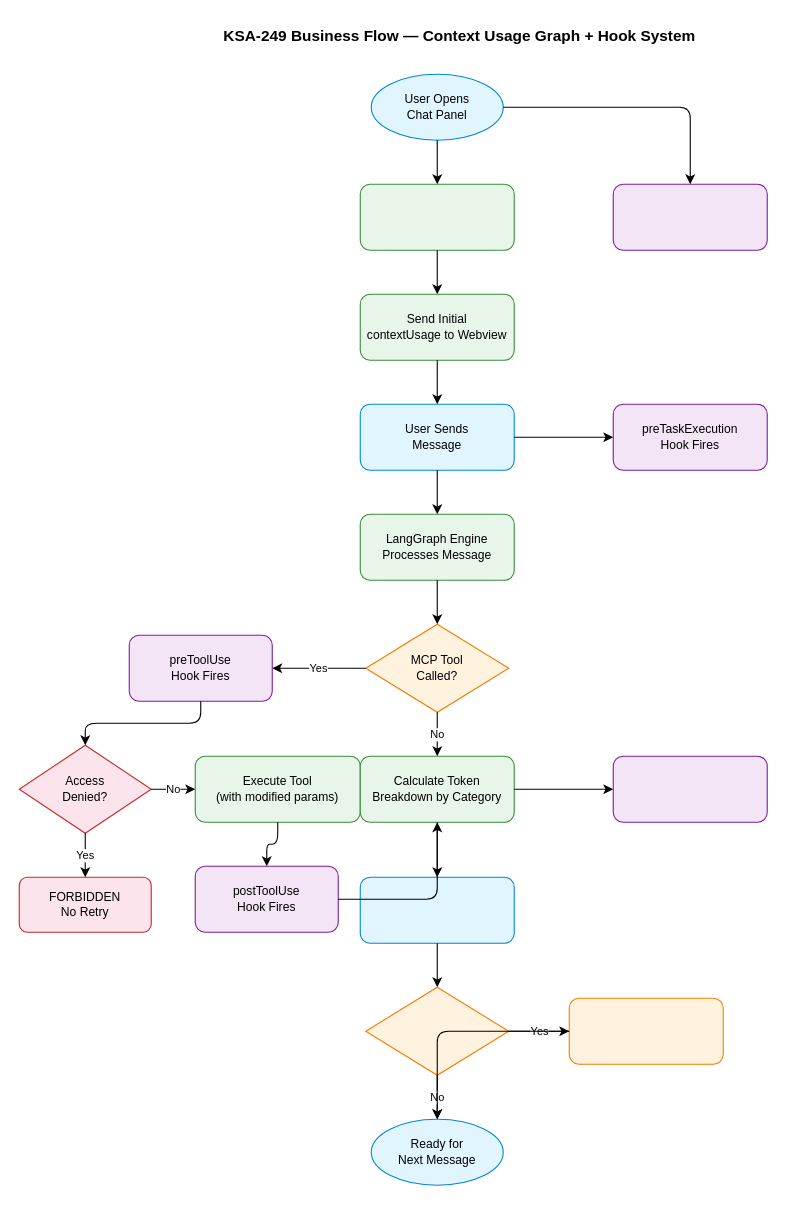
This 787x1205 diagram has some shape labels left out. Here are the shapes that lost their labels. From the top down, the centre of each, then its label:
(x=436, y=216): Extension Loads Steering Files
(x=689, y=216): Hook Loader Loads .kiro/hooks/
(x=689, y=788): postTaskExecution Hook Fires
(x=436, y=909): Update Context Usage Graph UI
(x=437, y=1030): Threshold Crossed?
(x=645, y=1030): Change Colors + Auto-Expand Panel
